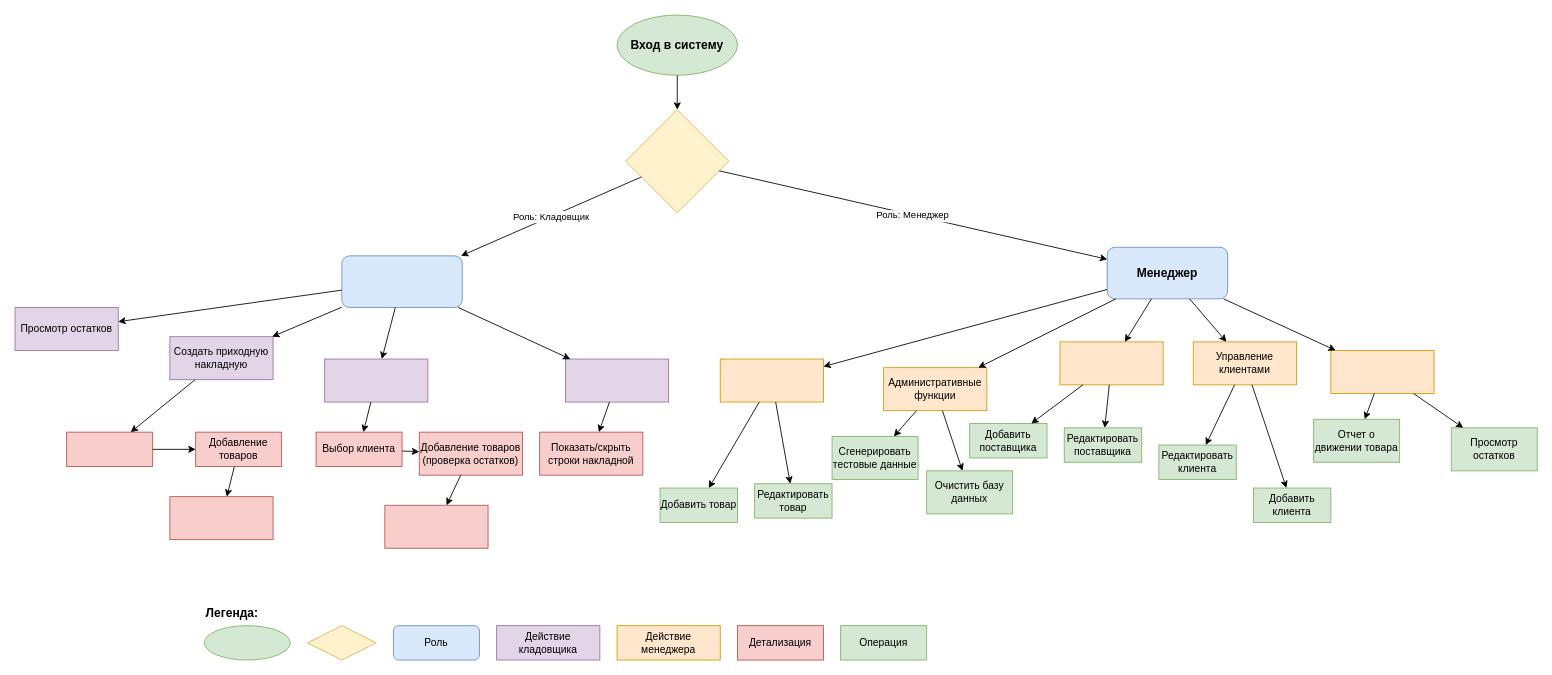
This 1552x675 diagram has some shape labels left out. Each missing label, with the centre of its shape:
"Выбор" goes at (341,642).
"Выбор поставщика" goes at (109,449).
"Выбор роли" goes at (677,161).
"Кладовщик" goes at (401,281).
"Просмотр накладных" goes at (617,380).
"Создать расходную накладную" goes at (376,380).
"Сохранение (обновление остатков)" goes at (221,518).
"Сохранение (уменьшение остатков)" goes at (436,526).
"Точка входа" goes at (246,642).
"Управление поставщиками" goes at (1111,363).
"Управление товарами" goes at (771,380).
"Формирование отчетов" goes at (1382,371).
